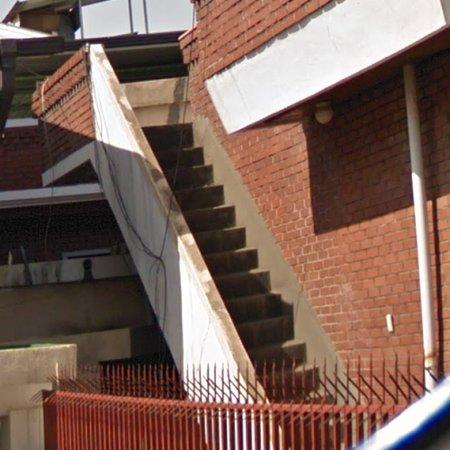stairs: (145, 125, 337, 444)
